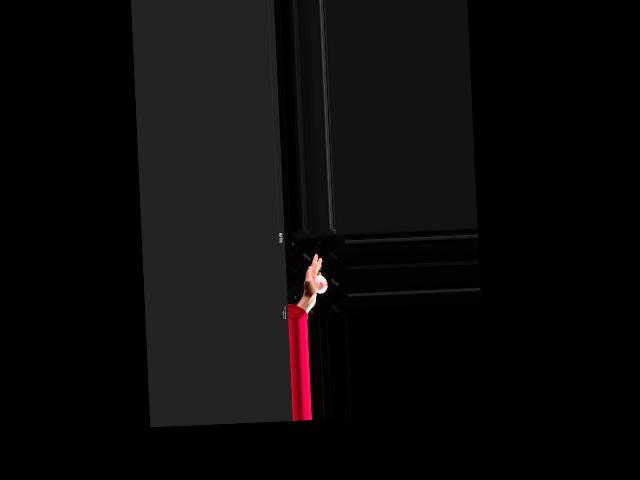egg: (314, 275, 327, 294)
